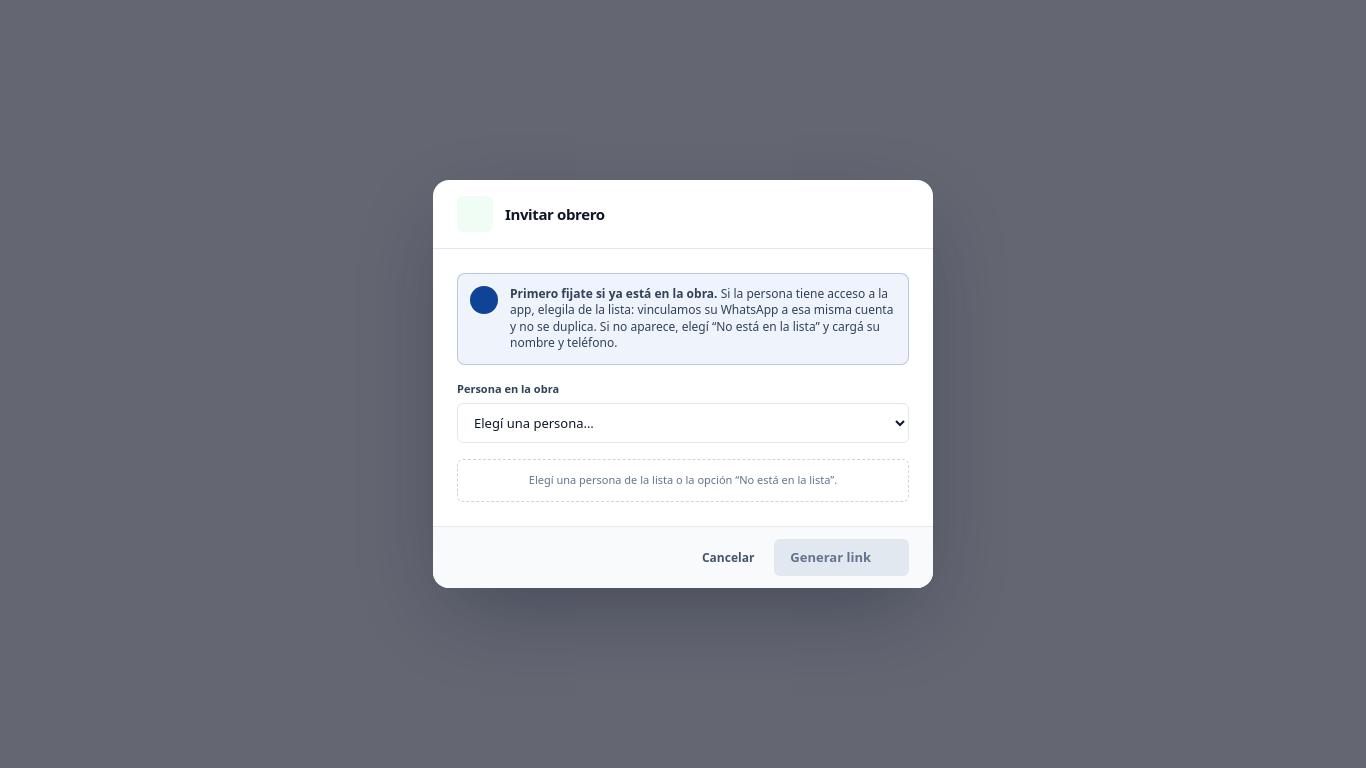
InviteTeamModal — selector de personas de la obra › al elegir una persona sin teléfono muestra su rol y pide el número
Select "Ana Web — ana@ejemplo.com (Capataz)" in the dropdown at (683, 423), box [457, 403, 909, 443]
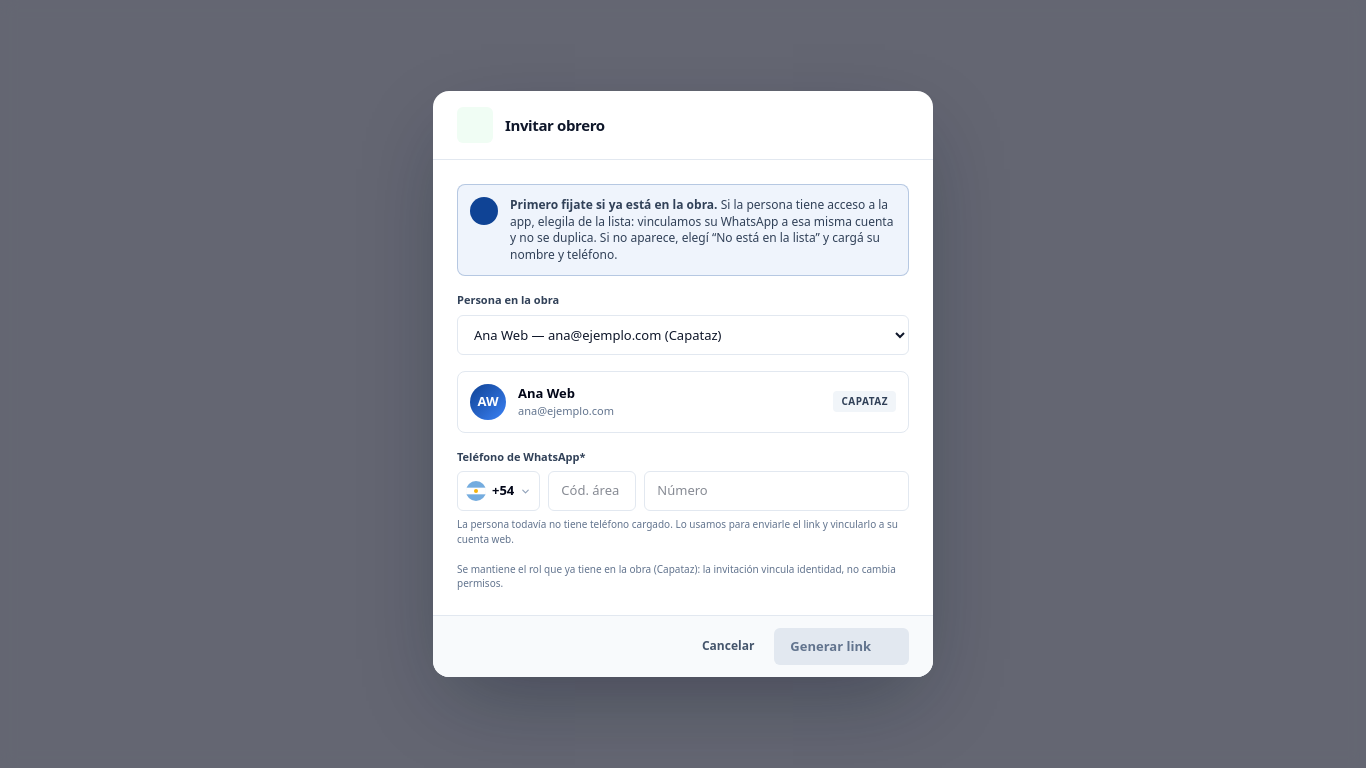
Expected: the text "Ana Web" is shown, [518, 384, 575, 402]
Expected: the field named "Código de área" is shown, [548, 471, 636, 511]
Expected: the text "Se mantiene el rol que ya tiene en la obra" is shown, [457, 562, 657, 576]
